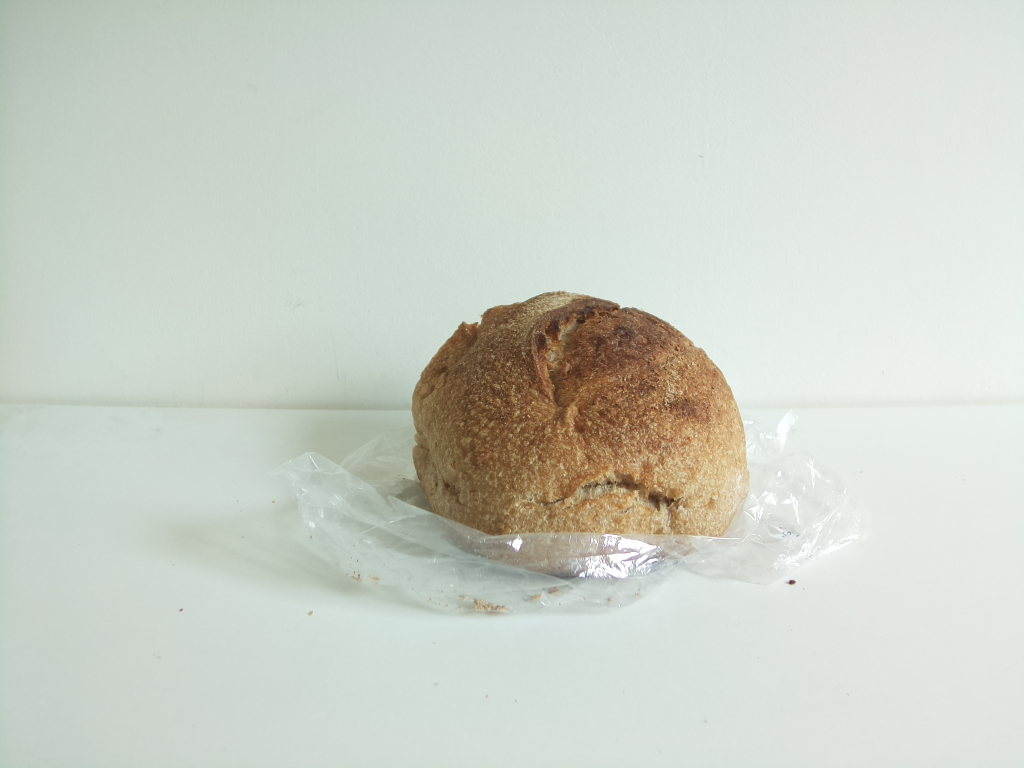bread: (410, 289, 752, 582)
